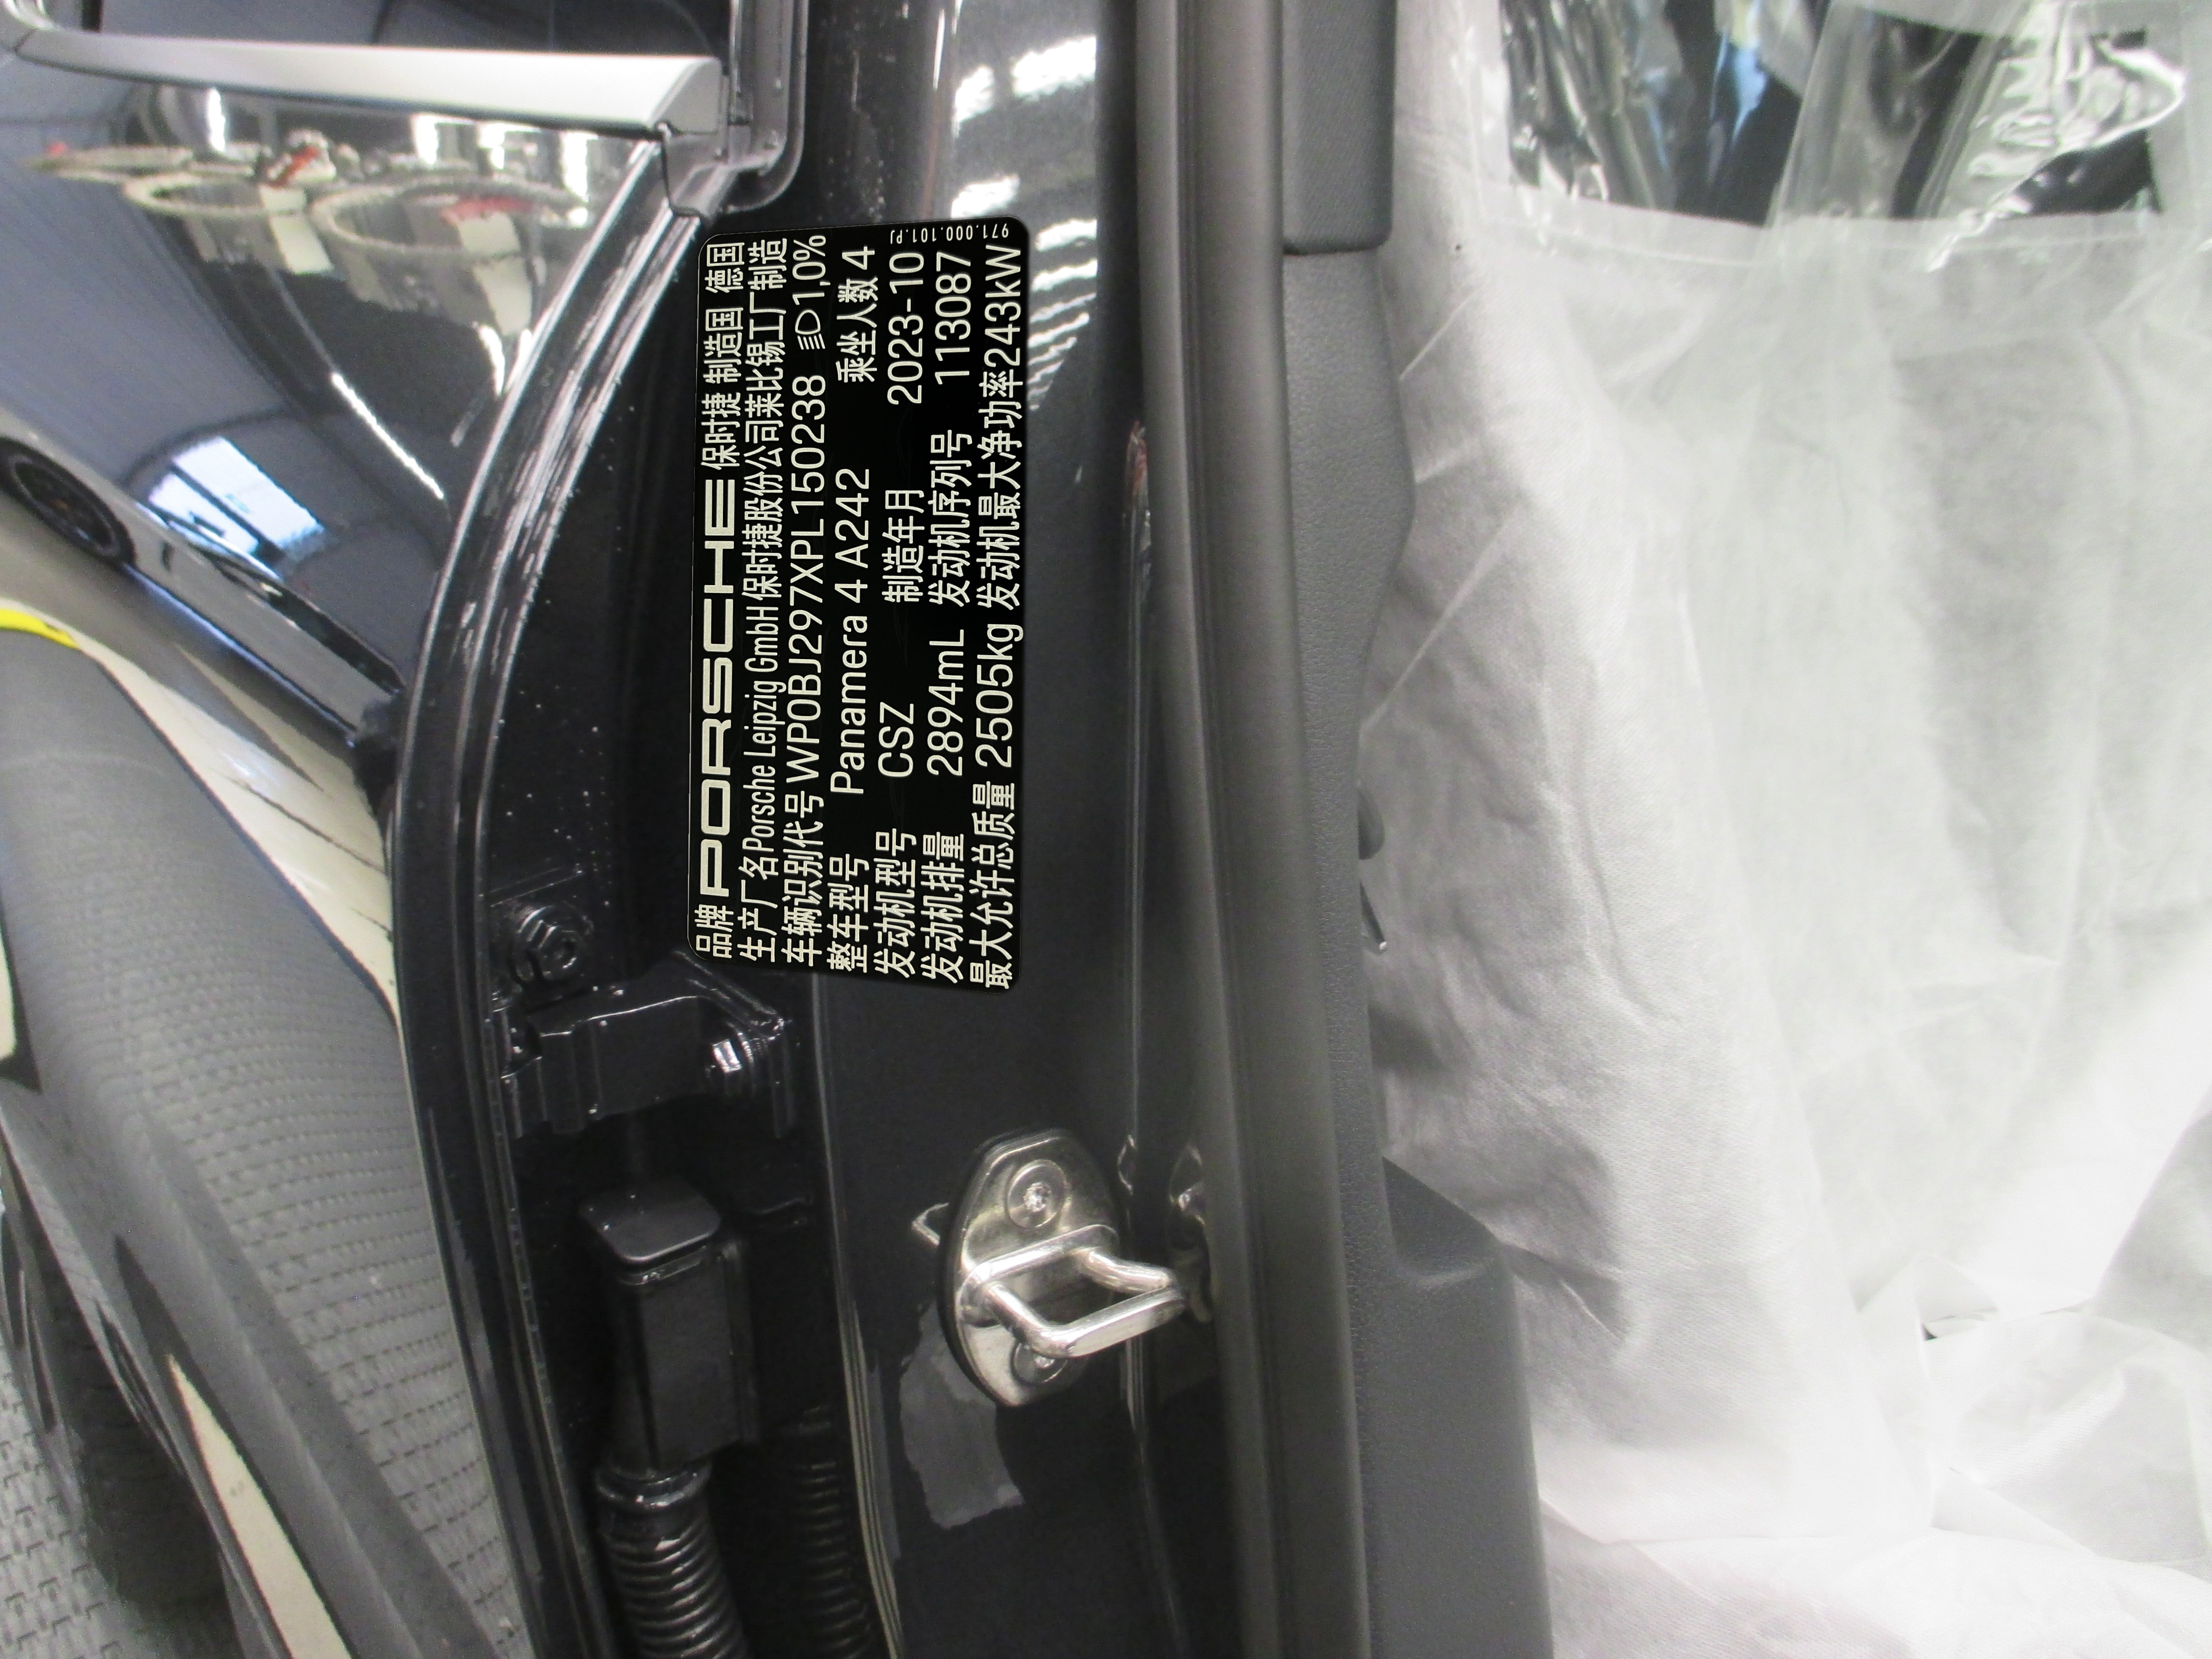Typlabel-China: (688, 216, 1029, 993)
